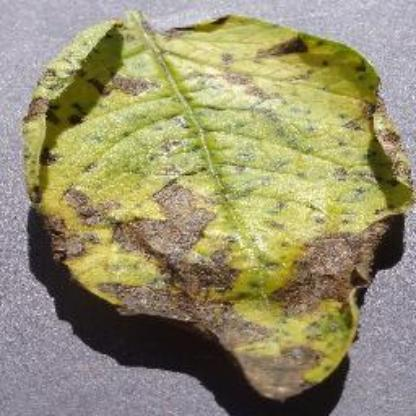Early-Blight: (21, 6, 413, 402)
